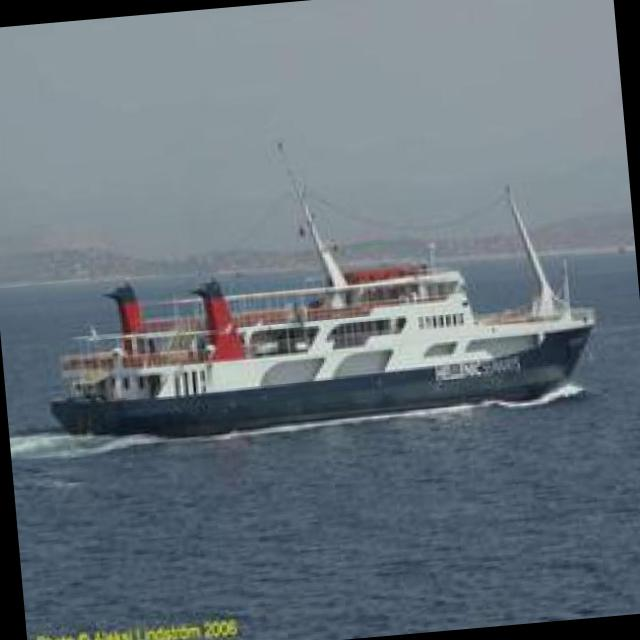boat: (39, 255, 592, 447)
